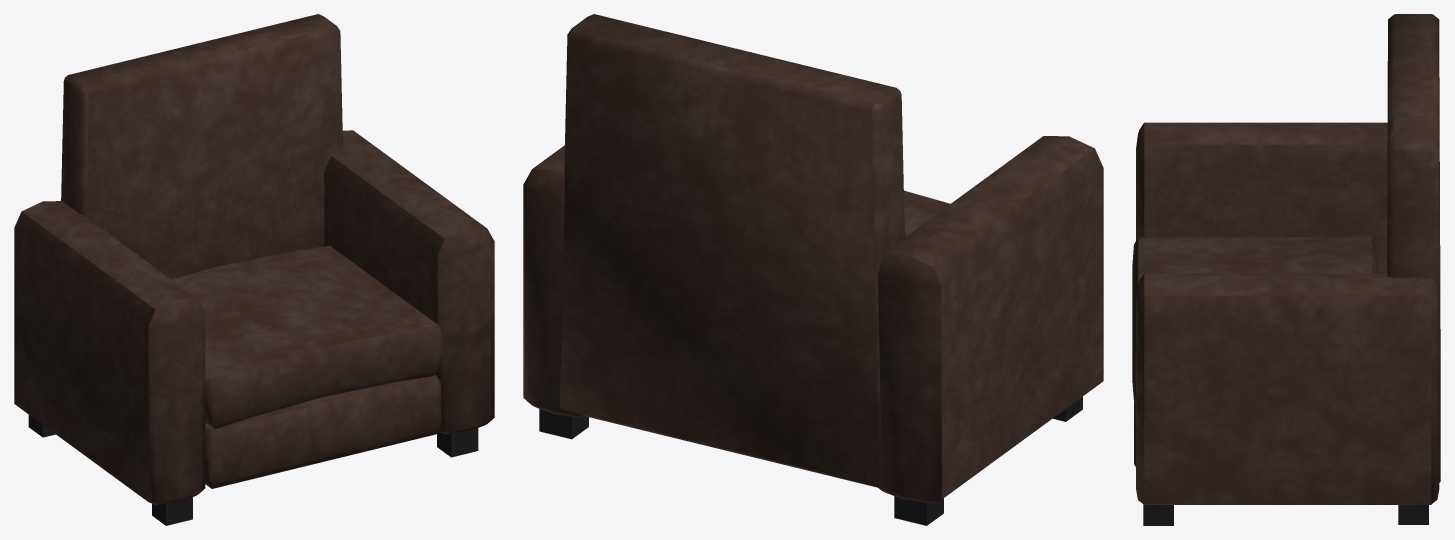
File: LeatherChair1.FBX
The picture shows the model from 3 angles, left to right: view 1: azimuth 30°, elevation 25°; view 2: azimuth 150°, elevation 25°; view 3: azimuth 270°, elevation 25°; orthographic projection. The views are drawn at different scales.
Visible parts, largest first — view 1: LeatherChair1; view 2: LeatherChair1; view 3: LeatherChair1.
Boxes of the visible parts, left/top/right/bottom form: LeatherChair1: left=14, top=14, right=494, bottom=525; LeatherChair1: left=523, top=14, right=1103, bottom=525; LeatherChair1: left=1132, top=14, right=1440, bottom=525.
Bounding box in the file's own units: 92.66 × 88.05 × 66.79.
